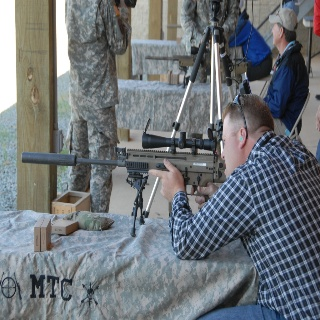rifle: (20, 129, 229, 238)
